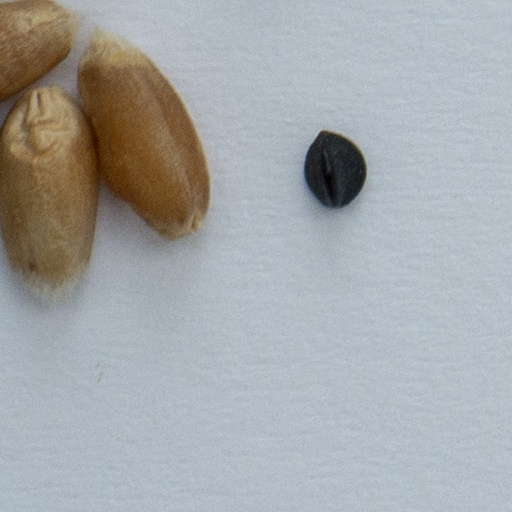Fallopia-Convolvulus-poly: (307, 131, 365, 207)
